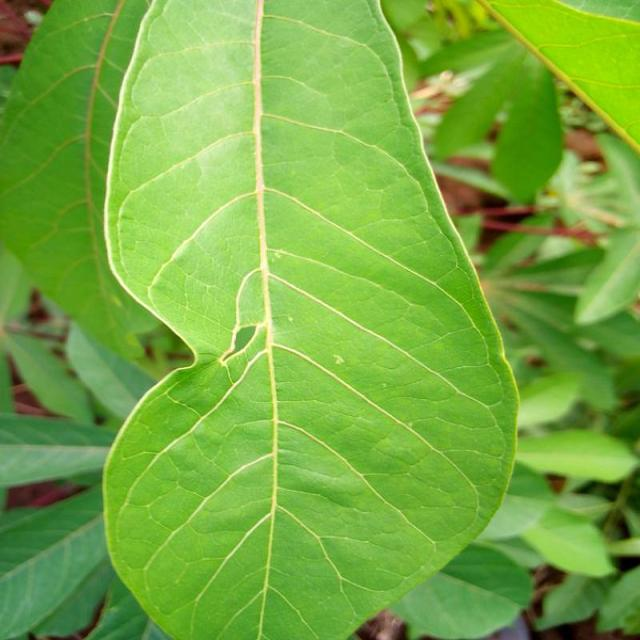cassava leaf: (98, 0, 522, 638)
